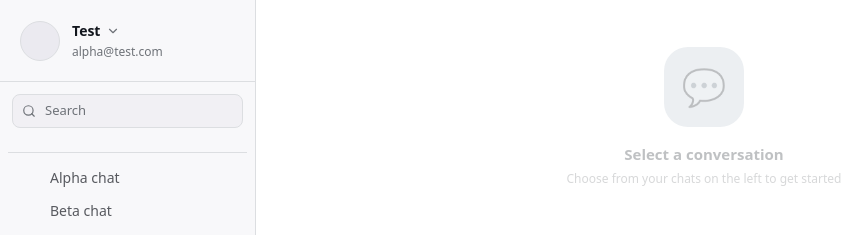
ChatWorkspace › filters conversations by search
Expected: the text "Alpha chat" is shown, [50,168,120,186]
Expected: the text "Beta chat" is shown, [50,200,112,220]
Type "Beta" into the search field named "search chats" at (128, 111), box [12,94,243,128]
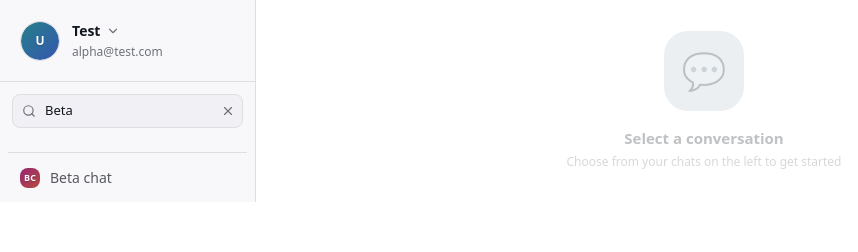
Expected: the text "Beta chat" is shown, [50,168,112,186]
Expected: the button "Alpha chat" is gone
